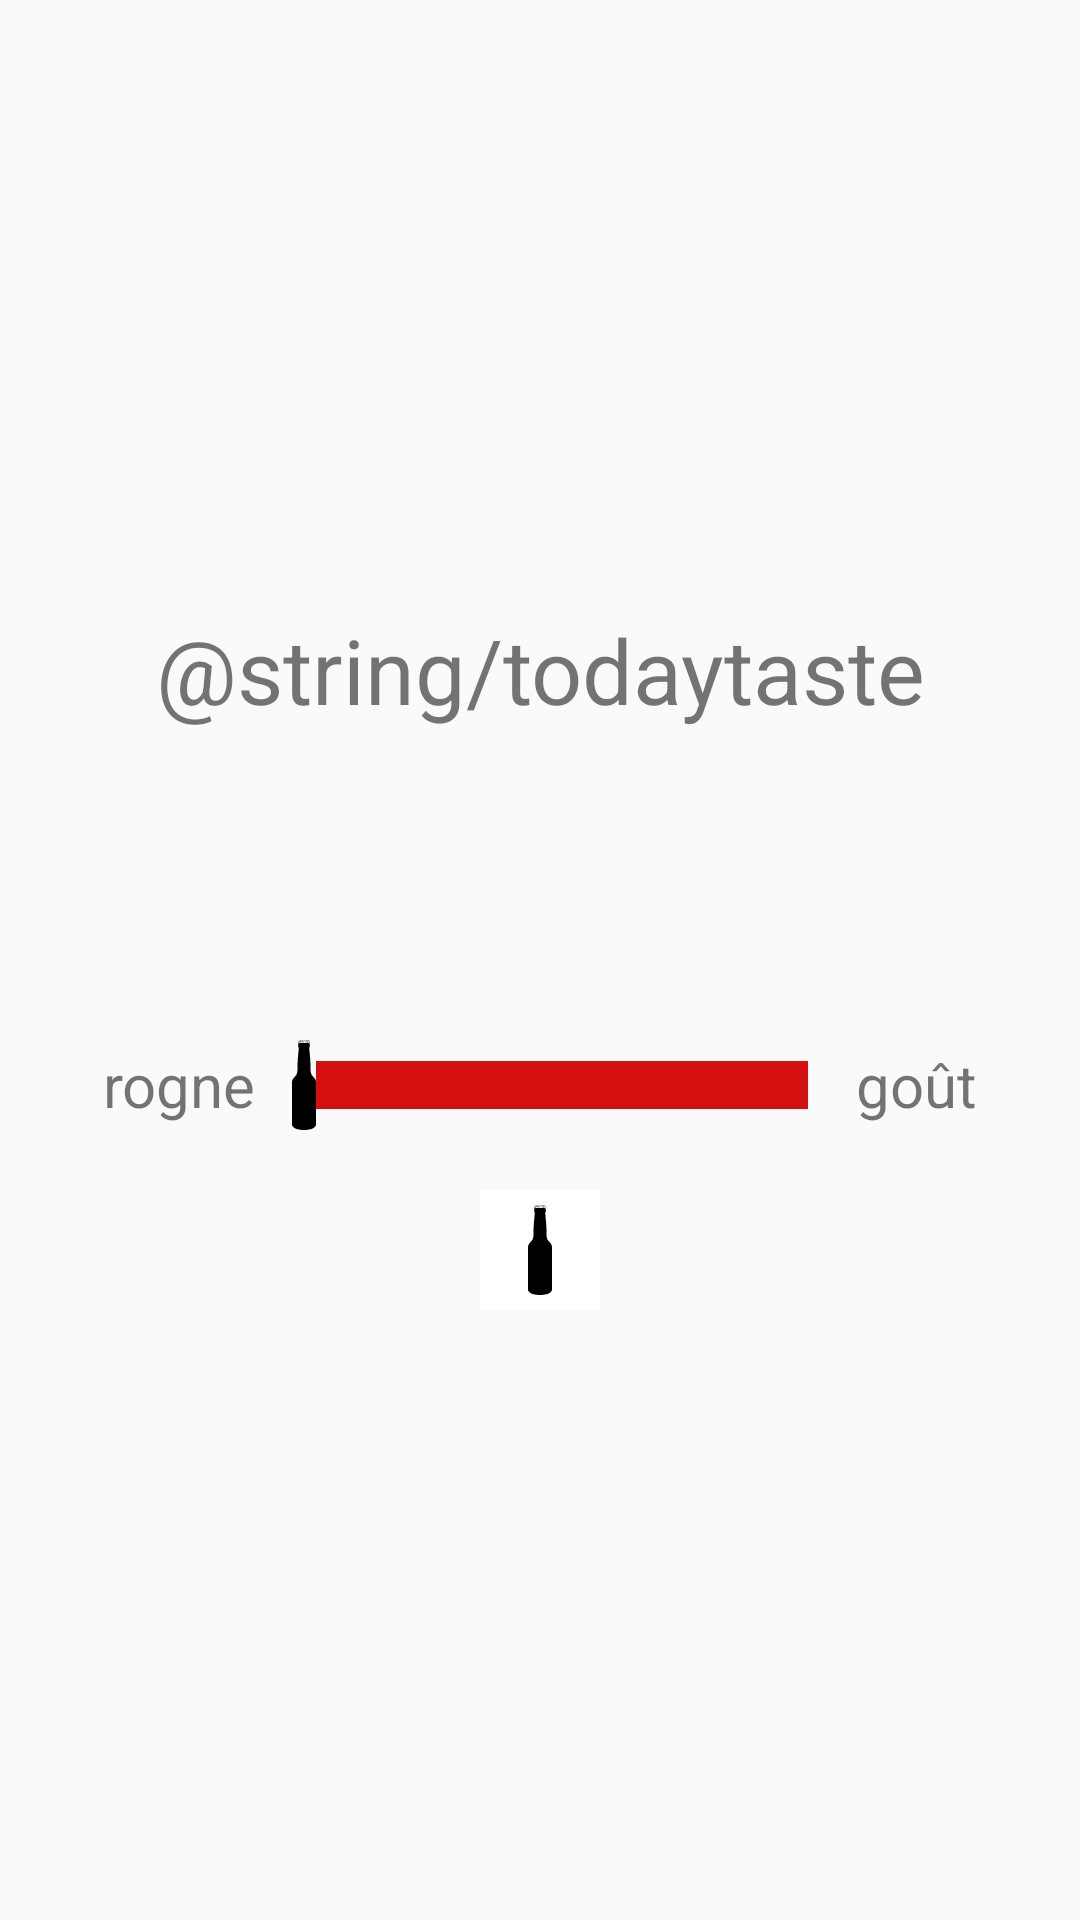

Point at icon controls on the screen. Image size 1080*1920, points as [x,y].
beer bottle plain shape: [540,1250]
